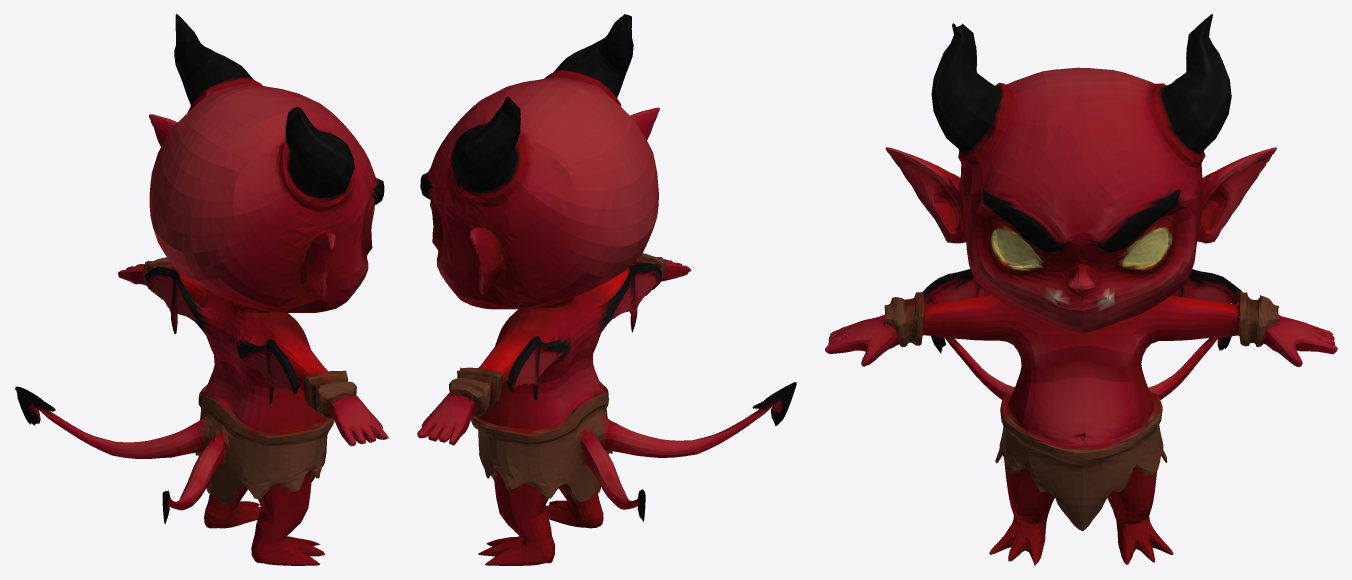
File: demon+3d+model.glb
3 renders of one model, left to right at view 1: azimuth 30°, elevation 25°; view 2: azimuth 150°, elevation 25°; view 3: azimuth 270°, elevation 25°, orthographic. The views are drawn at different scales.
Visible parts, largest first — view 1: tripo_node_4603e9e3-5a15-45c4-bbe1-23819c80f64f; view 2: tripo_node_4603e9e3-5a15-45c4-bbe1-23819c80f64f; view 3: tripo_node_4603e9e3-5a15-45c4-bbe1-23819c80f64f.
Boxes of the visible parts, box(x1,y1,x2,y2) form: tripo_node_4603e9e3-5a15-45c4-bbe1-23819c80f64f: box(15, 14, 388, 565); tripo_node_4603e9e3-5a15-45c4-bbe1-23819c80f64f: box(417, 14, 796, 565); tripo_node_4603e9e3-5a15-45c4-bbe1-23819c80f64f: box(825, 14, 1337, 565).
Bounding box in the file's own units: 0.5963 × 1 × 0.8936.
